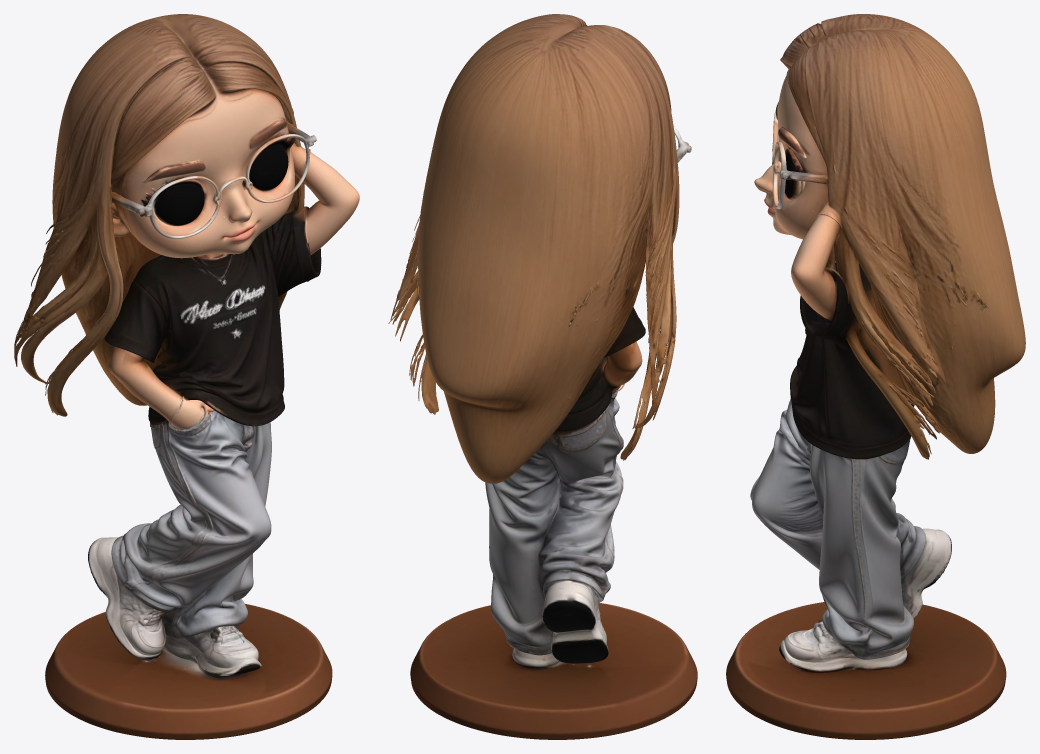
File: LerwaxiMi.glb
The picture shows the model from 3 angles, left to right: view 1: azimuth 30°, elevation 25°; view 2: azimuth 150°, elevation 25°; view 3: azimuth 270°, elevation 25°; orthographic projection.
Bounding box in the file's own units: 0.4915 × 1.11 × 0.4637.
Materials: 1 (1 with a texture image).
